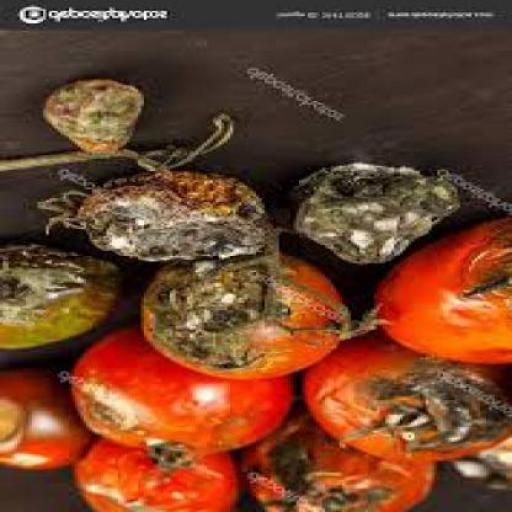biodegradable: (66, 324, 290, 480), (136, 251, 376, 382), (305, 339, 509, 465), (362, 216, 509, 366), (31, 174, 268, 264), (232, 413, 434, 511), (282, 164, 458, 270), (0, 115, 230, 177), (69, 434, 236, 511), (0, 243, 118, 351), (0, 370, 90, 476), (41, 81, 144, 159), (449, 440, 509, 492)
